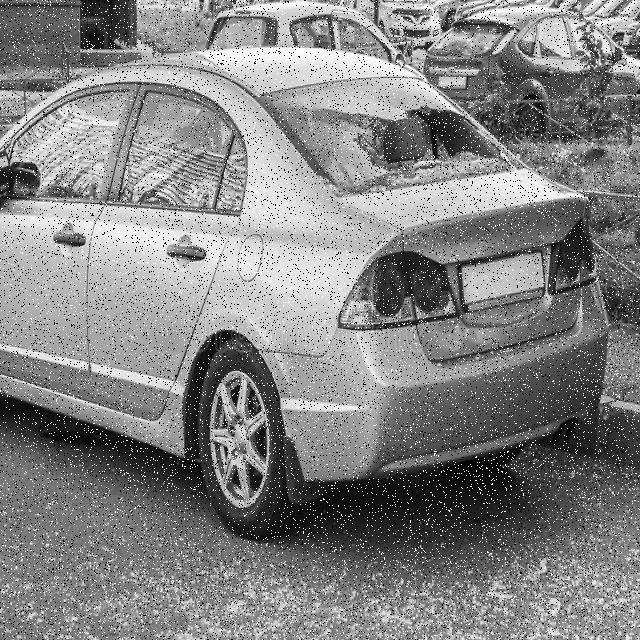Rear-windscreen-Damage: (269, 80, 530, 229)
